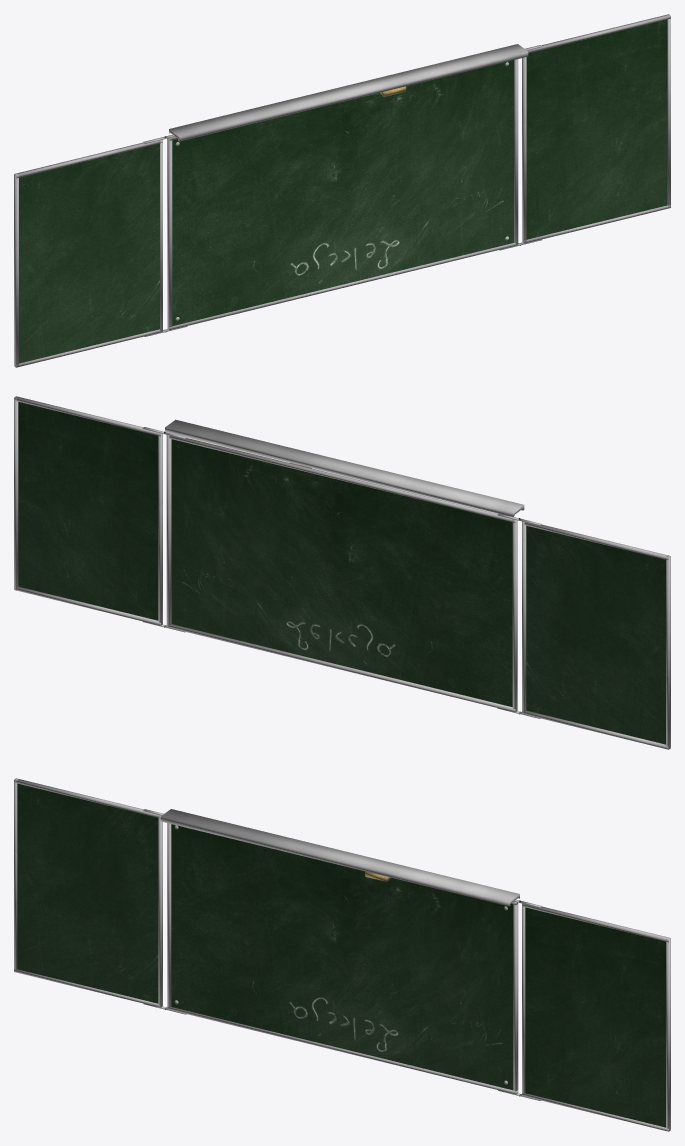
File: ChalkBoard.fbx
3 renders of one model, top to bottom at view 1: azimuth 30°, elevation 25°; view 2: azimuth 150°, elevation 25°; view 3: azimuth 330°, elevation 25°, orthographic.
Parts seen in each view (by area): view 1: Box002, Box047; view 2: Box002, Box047; view 3: Box002, Box047.
Part boxes in pixels (bbox=[...]): Box002: bbox=[14, 14, 670, 367]; Box047: bbox=[169, 44, 528, 141]; Box002: bbox=[14, 396, 670, 749]; Box047: bbox=[165, 419, 524, 517]; Box002: bbox=[14, 778, 670, 1131]; Box047: bbox=[160, 809, 519, 906].
Bounding box in the file's own units: 35666 × 10485 × 1028.
2 materials, 2 textured.
